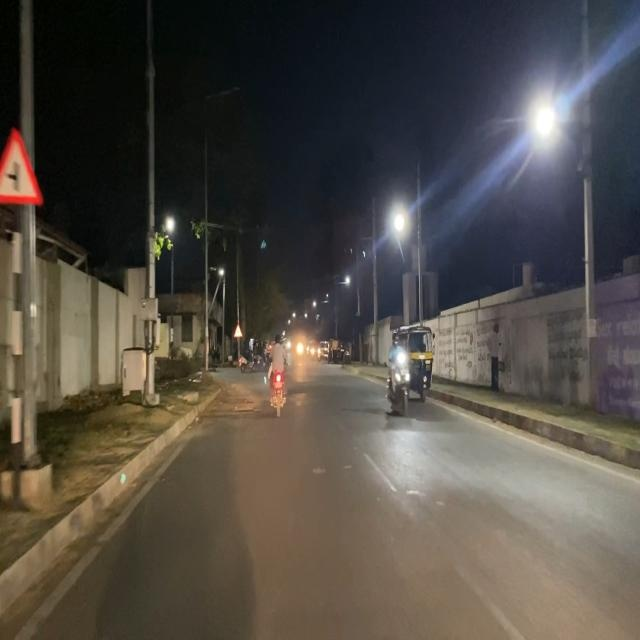bien_nguy_hiem: (0, 122, 39, 211)
